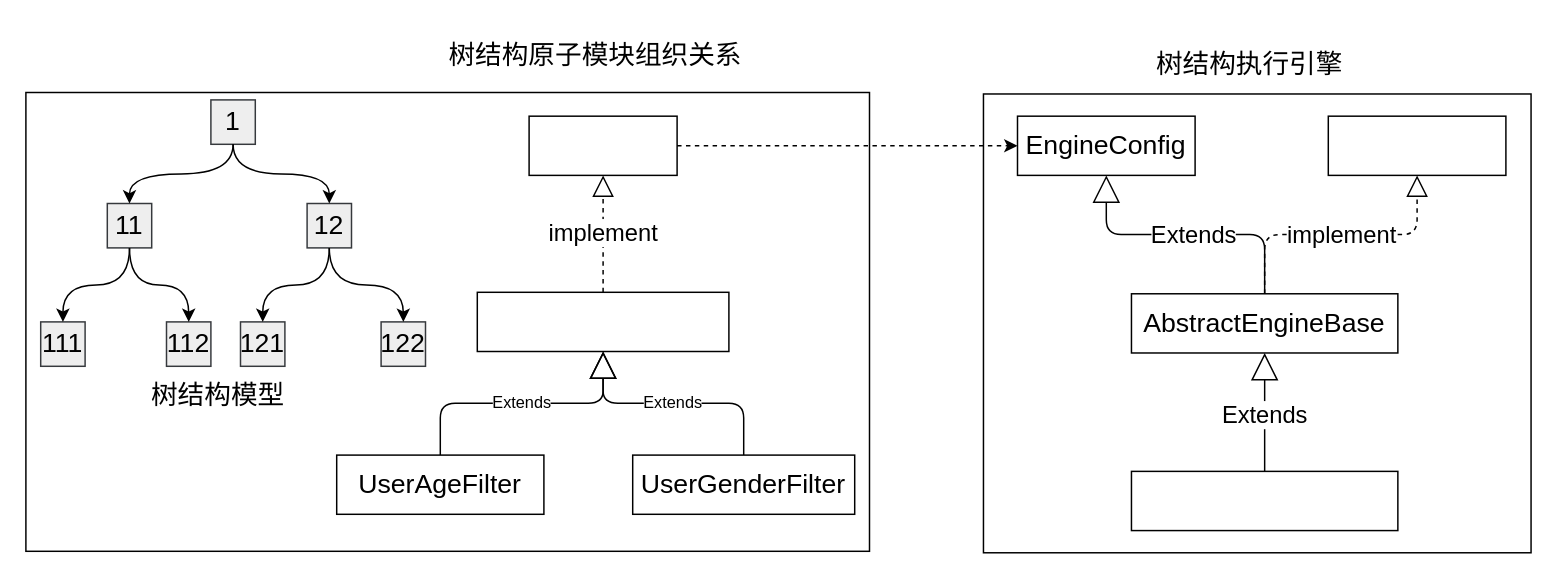
Image size: 1557x579. Some labels were removed from this diagram. Each missing label, with the centre of its shape:
"AbstractBaseLogic" goes at point 602,321.
"IEngine" goes at point 1416,145.
"LogicFilter" goes at point 602,145.
"RuleEngineHandle" goes at point 1264,500.
